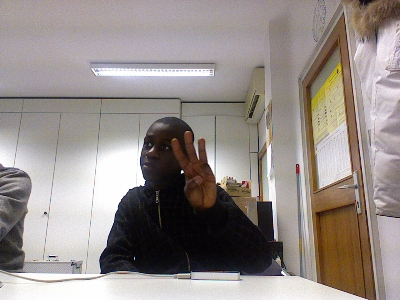三分: (170, 130, 217, 210)
